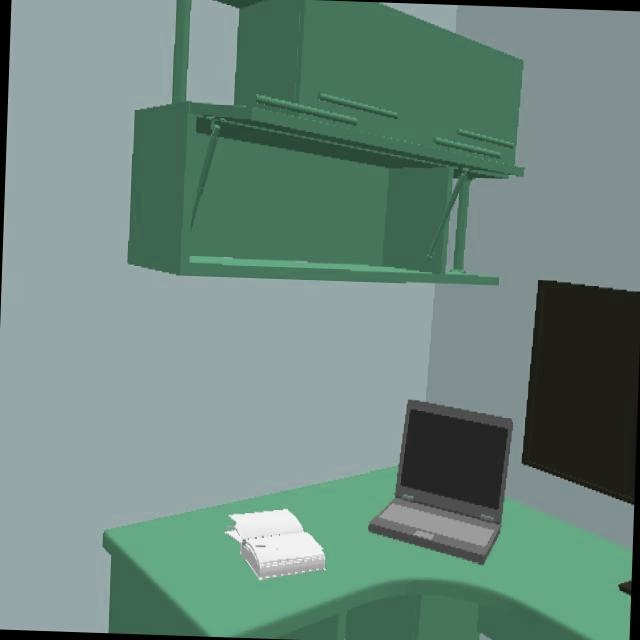book: (227, 509, 324, 578)
cabinet: (127, 0, 521, 284)
laptop: (368, 399, 512, 563)
monitor: (522, 280, 640, 503)
table: (102, 468, 632, 640)
